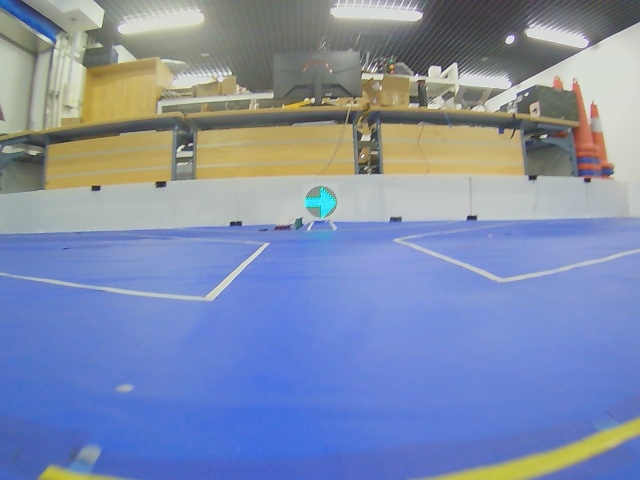right_green: (304, 186, 337, 219)
